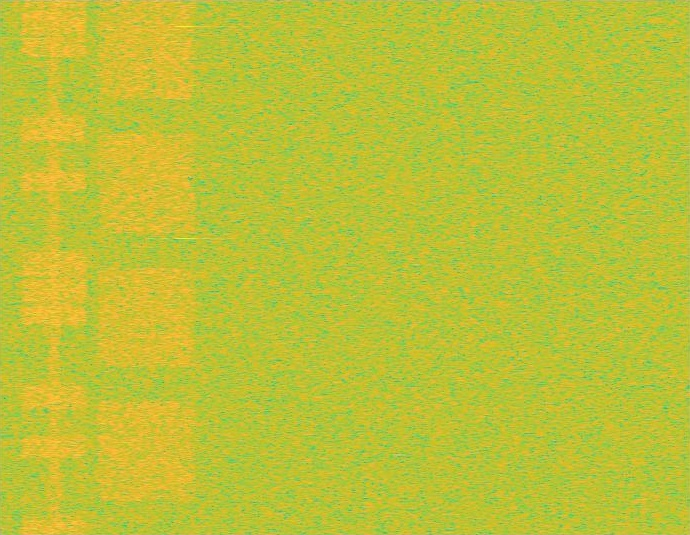5G: (95, 0, 199, 534)
DSSS: (46, 0, 62, 534)
LTE: (20, 0, 89, 534)
Radar: (179, 0, 192, 534)
